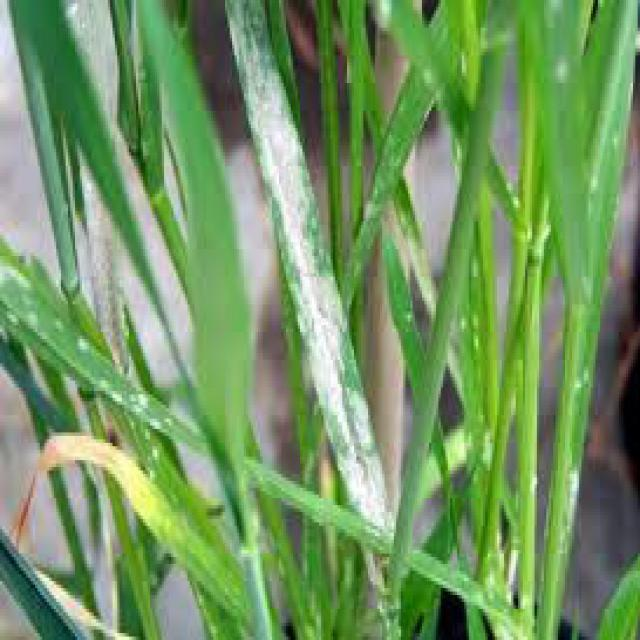wheat-powdery-mildew: (224, 0, 386, 531), (0, 258, 174, 431)
